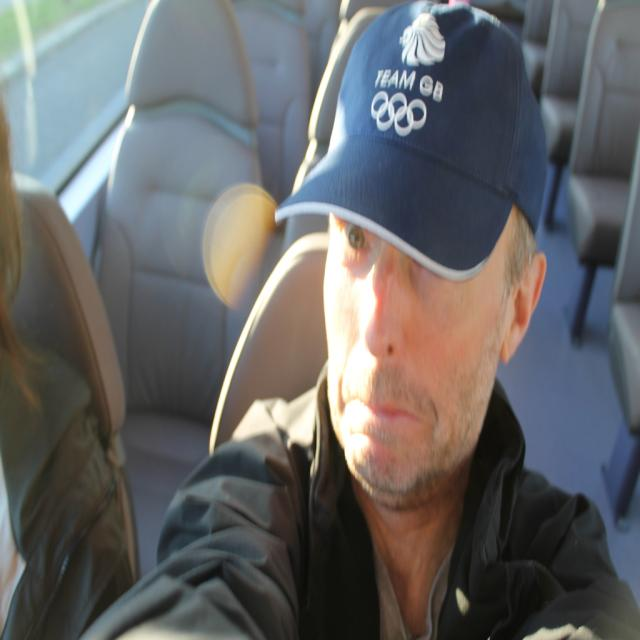Hat: (276, 0, 548, 279)
